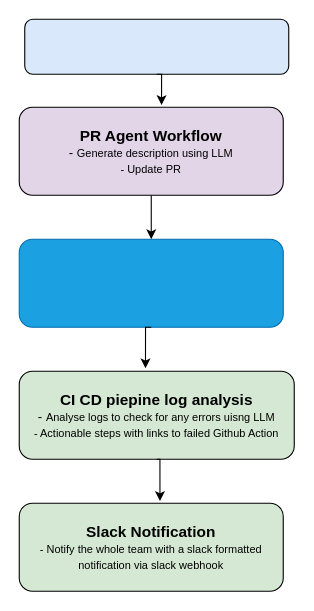
The diagram is 314 pixels wide and 611 high, and some of its shapes have lost their labels. The centre of each missing label's shape, as x and y in pixels:
"CI CD pipeline logs - Recieve CI/CD logs via Github webhook and ssh tunneling" goes at (x=150, y=282).
"Developer PR (Pull Request)" goes at (x=156, y=46).
